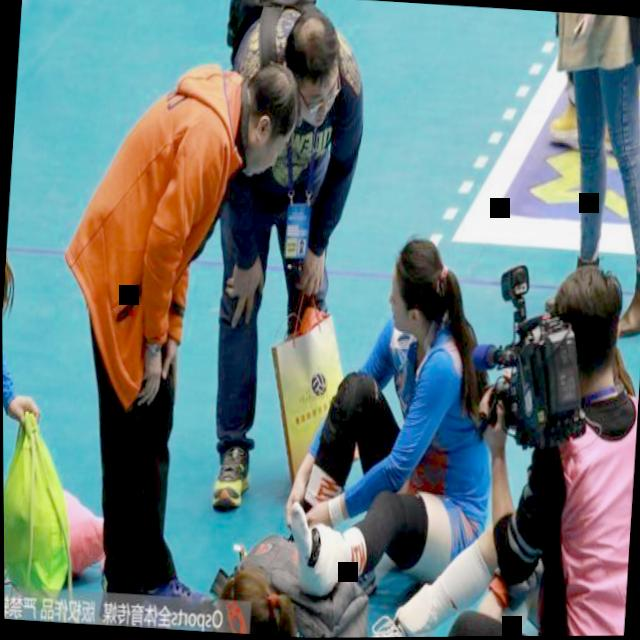Fall-Detected: (3, 464, 376, 640)
